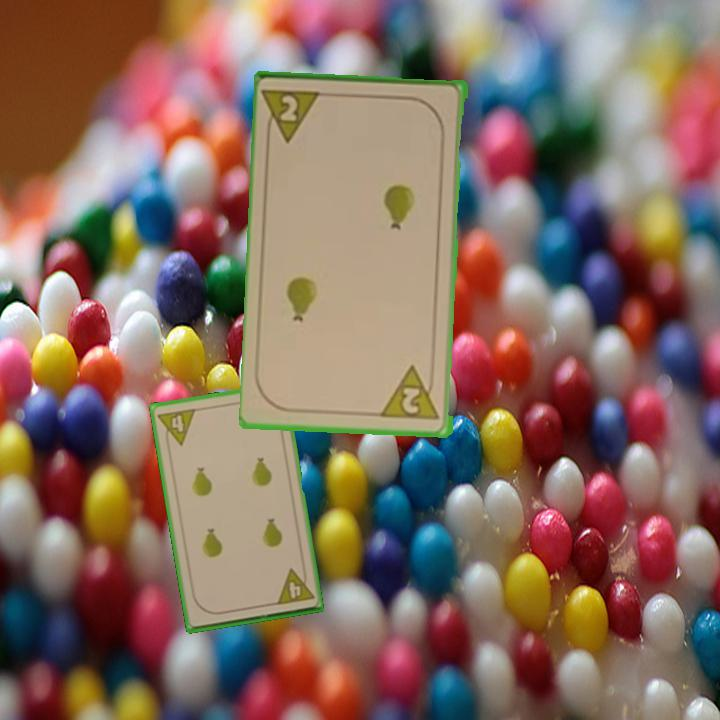2p: (262, 86, 328, 146), (380, 363, 443, 424)
4p: (154, 405, 199, 450), (272, 564, 317, 608)
